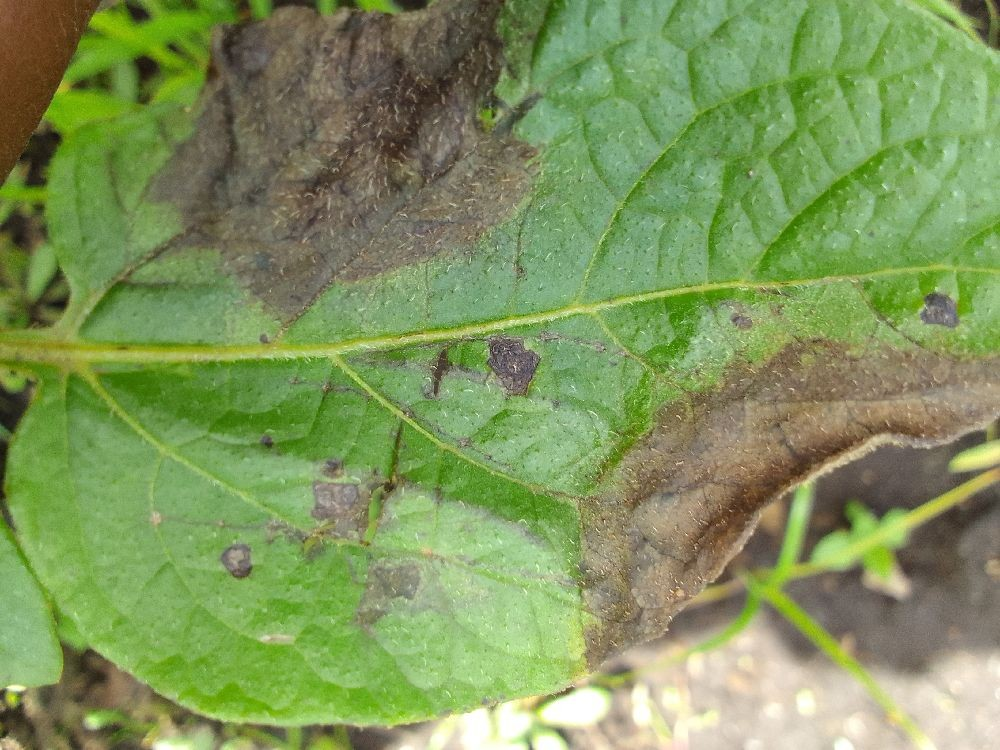late_blight: (557, 278, 999, 749), (59, 0, 599, 371), (0, 0, 175, 211), (0, 615, 257, 750)
